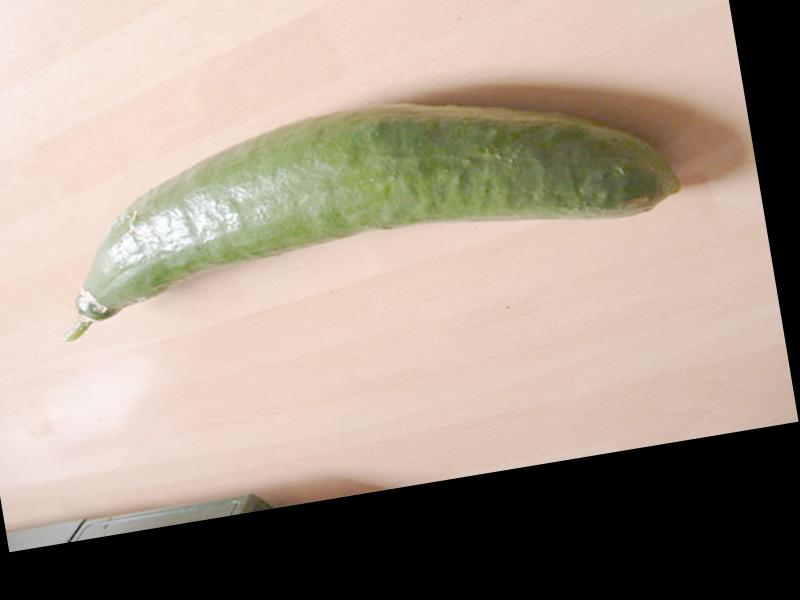Cucumber: (33, 54, 692, 341)
